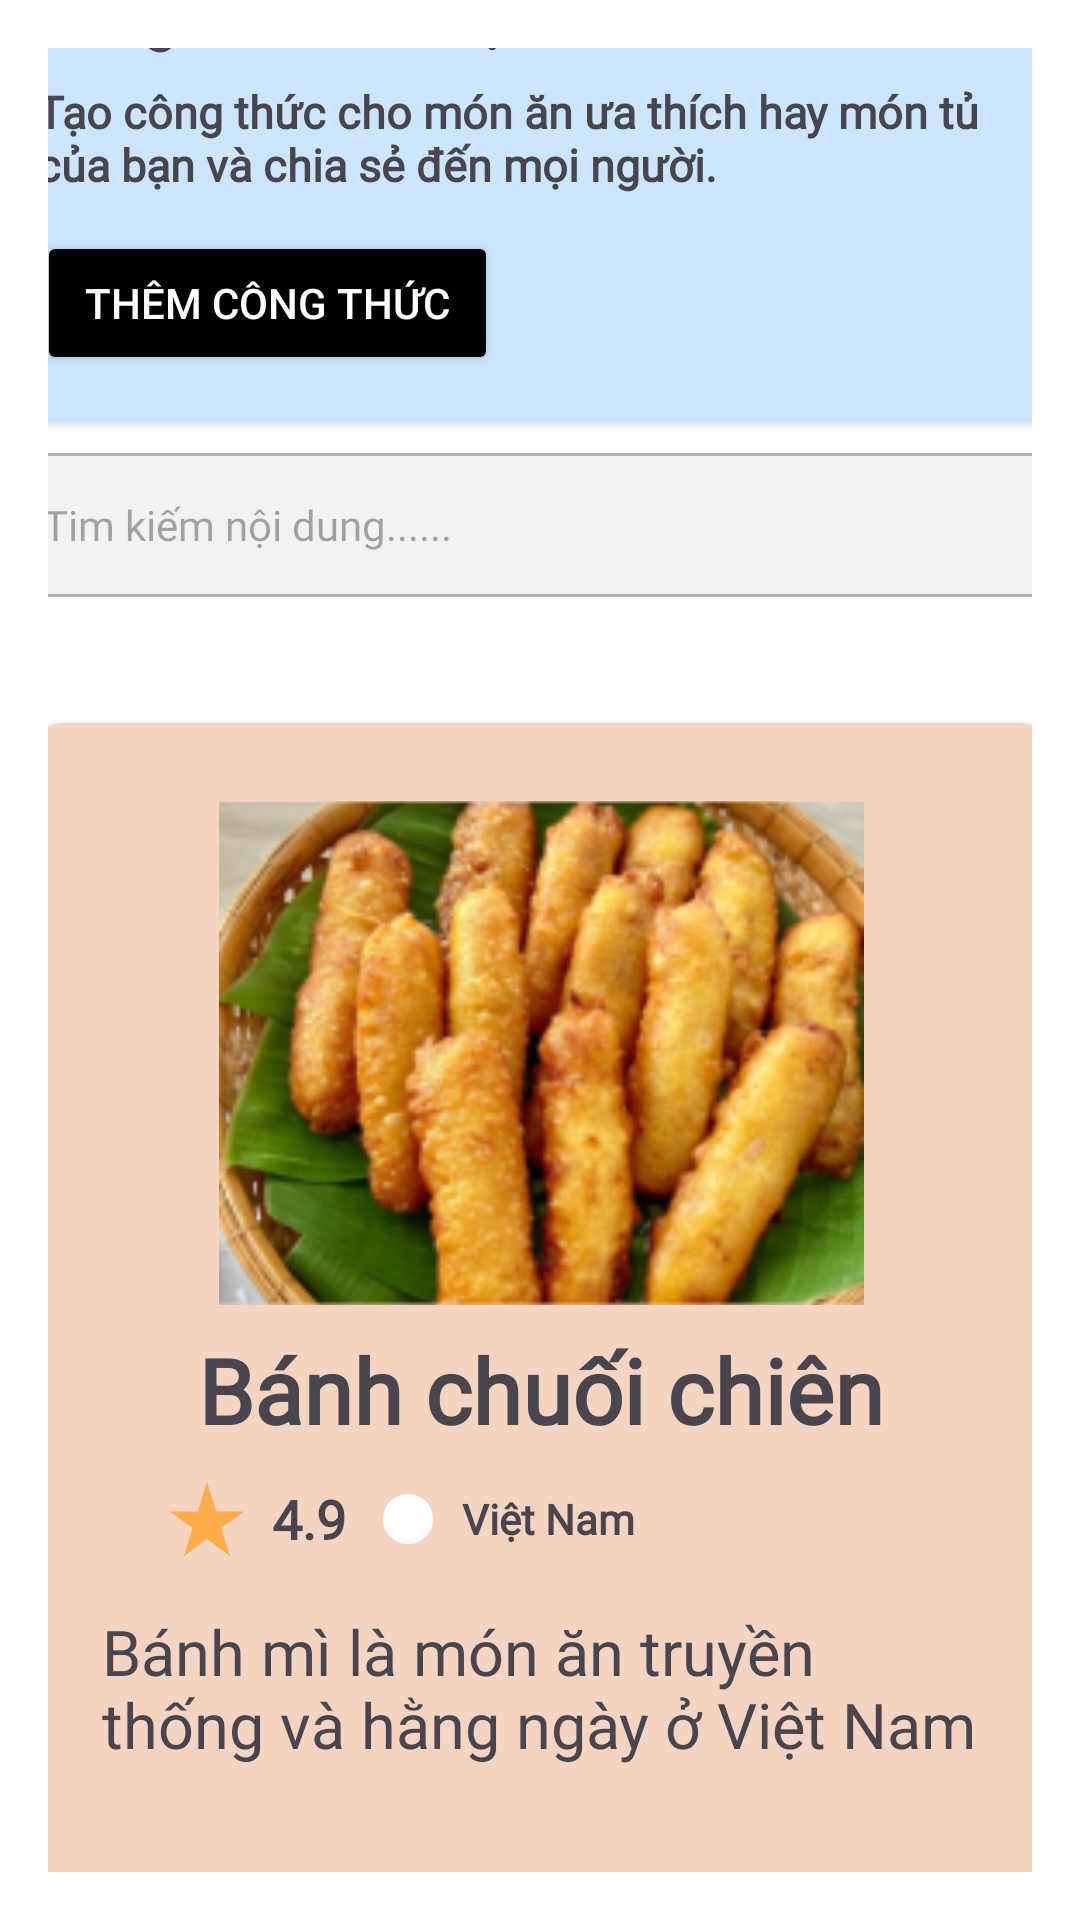

Icon bounding boxes for this 1080x1920 phone screenshot, format box=[x1, y1, x2, y2]:
star: box=[170, 1482, 244, 1556]
